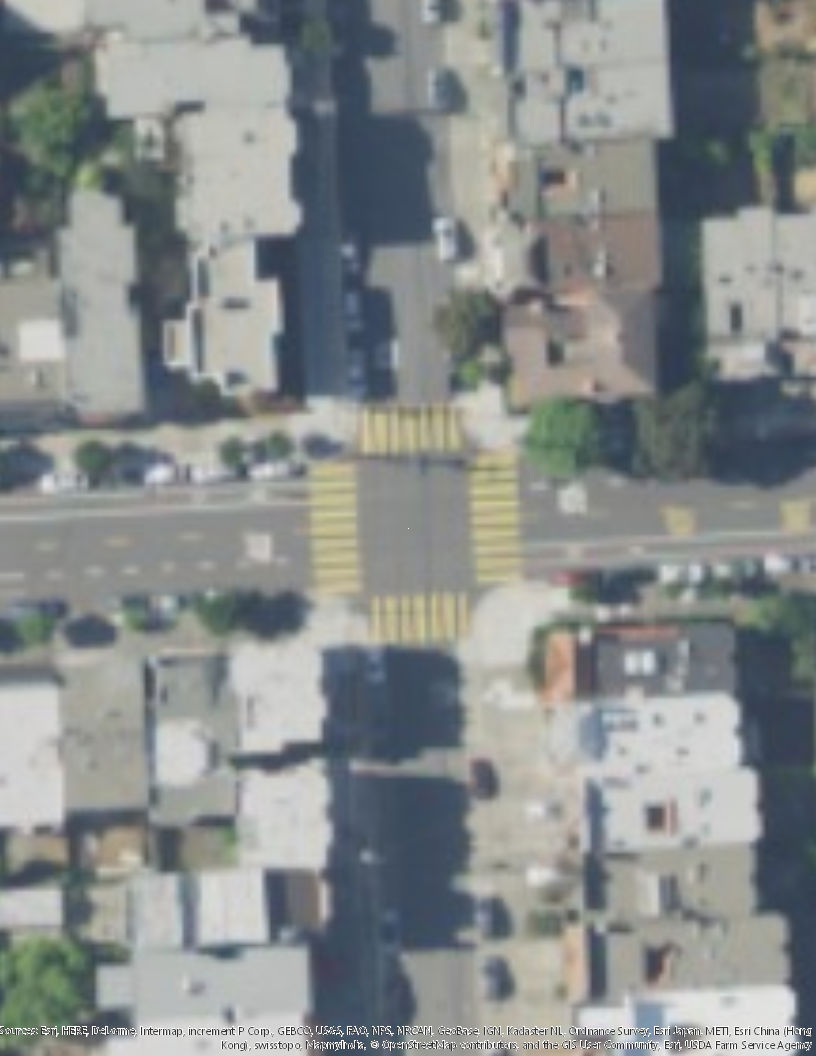zebracross: (468, 450, 520, 586), (308, 459, 359, 589), (368, 589, 472, 642), (364, 400, 466, 453)
